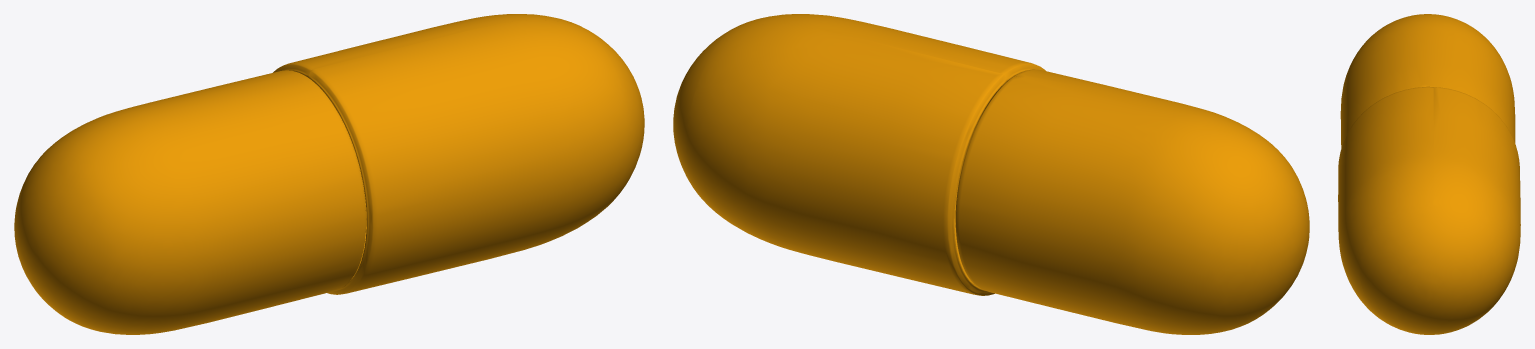
File: capsuule.gltf
3 views of the same model, side by side, from view 1: azimuth 30°, elevation 25°; view 2: azimuth 150°, elevation 25°; view 3: azimuth 270°, elevation 25° (orthographic). The views are drawn at different scales.
Parts seen in each view (by area): view 1: Sphere.002_Sphere.001, Sphere.001_Sphere.003_Sphere.001_Sphere.001; view 2: Sphere.002_Sphere.001, Sphere.001_Sphere.003_Sphere.001_Sphere.001; view 3: Sphere.001_Sphere.003_Sphere.001_Sphere.001, Sphere.002_Sphere.001.
Boxes of the visible parts, x1=… form: Sphere.002_Sphere.001: x1=14, y1=70, x2=366, y2=334; Sphere.001_Sphere.003_Sphere.001_Sphere.001: x1=273, y1=14, x2=644, y2=294; Sphere.002_Sphere.001: x1=955, y1=69, x2=1309, y2=334; Sphere.001_Sphere.003_Sphere.001_Sphere.001: x1=673, y1=14, x2=1045, y2=295; Sphere.001_Sphere.003_Sphere.001_Sphere.001: x1=1338, y1=86, x2=1520, y2=334; Sphere.002_Sphere.001: x1=1340, y1=14, x2=1515, y2=148.
Size of the model in its own units: 0.4462 by 0.1523 by 0.1523.
